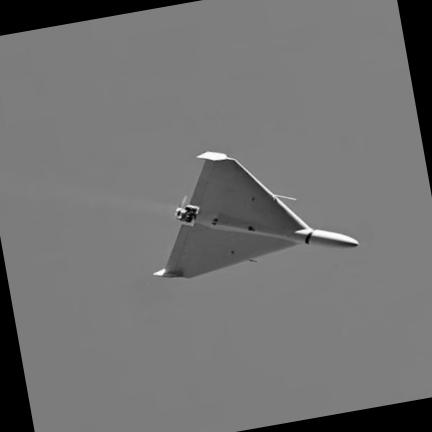Shahed: (153, 152, 359, 278)
